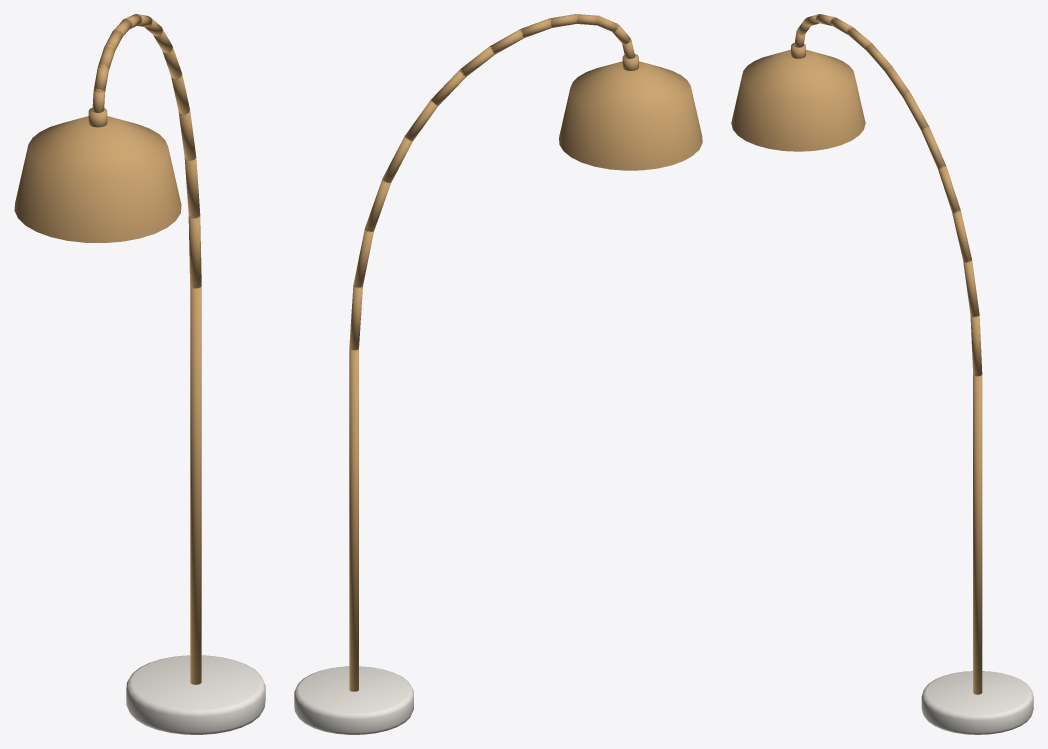
The model's file is lampFloorArc.glb.
3 views of the same model, side by side, from view 1: azimuth 30°, elevation 25°; view 2: azimuth 150°, elevation 25°; view 3: azimuth 270°, elevation 25° (orthographic). The views are drawn at different scales.
Visible parts, largest first — view 1: lampFloorArc; view 2: lampFloorArc; view 3: lampFloorArc.
Part boxes in pixels (bbox=[...]): lampFloorArc: bbox=[14, 14, 265, 734]; lampFloorArc: bbox=[294, 14, 702, 734]; lampFloorArc: bbox=[731, 14, 1033, 734].
Size of the model in its own units: 0.85 by 1.86 by 0.81.
